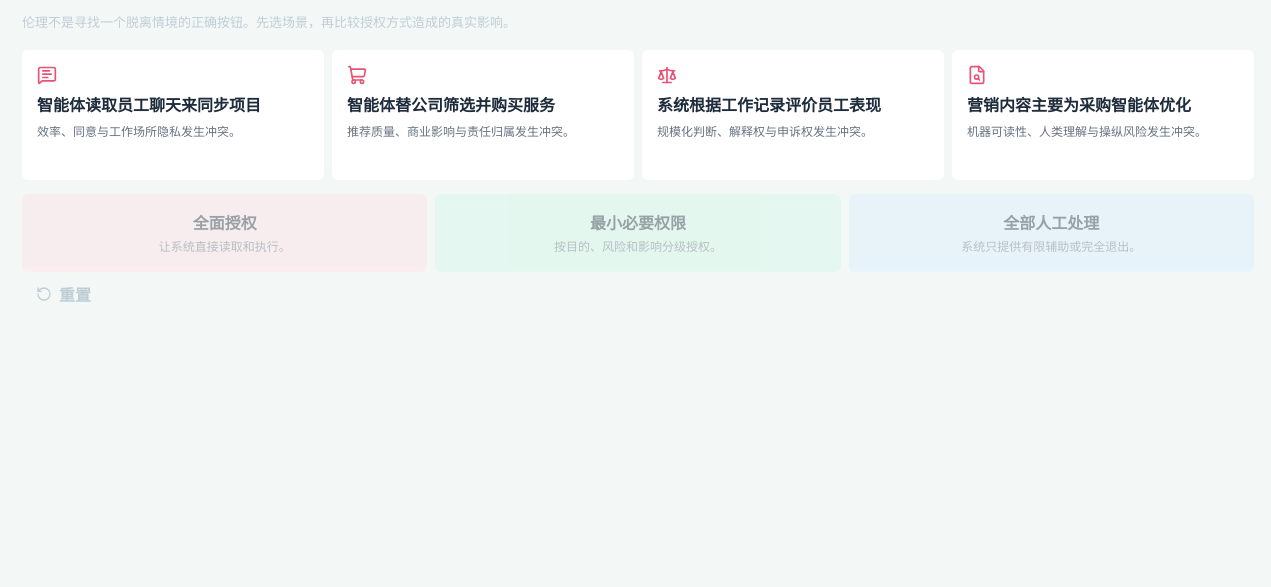
Scenario: EthicsLab › shows stakeholders, privacy safeguards, and residual uncertainty
The width and height of the screenshot is (1271, 587).
Click the button with aria-label "选择员工聊天记录场景" at (173, 115), box top-left (22, 50), bottom-right (324, 180)
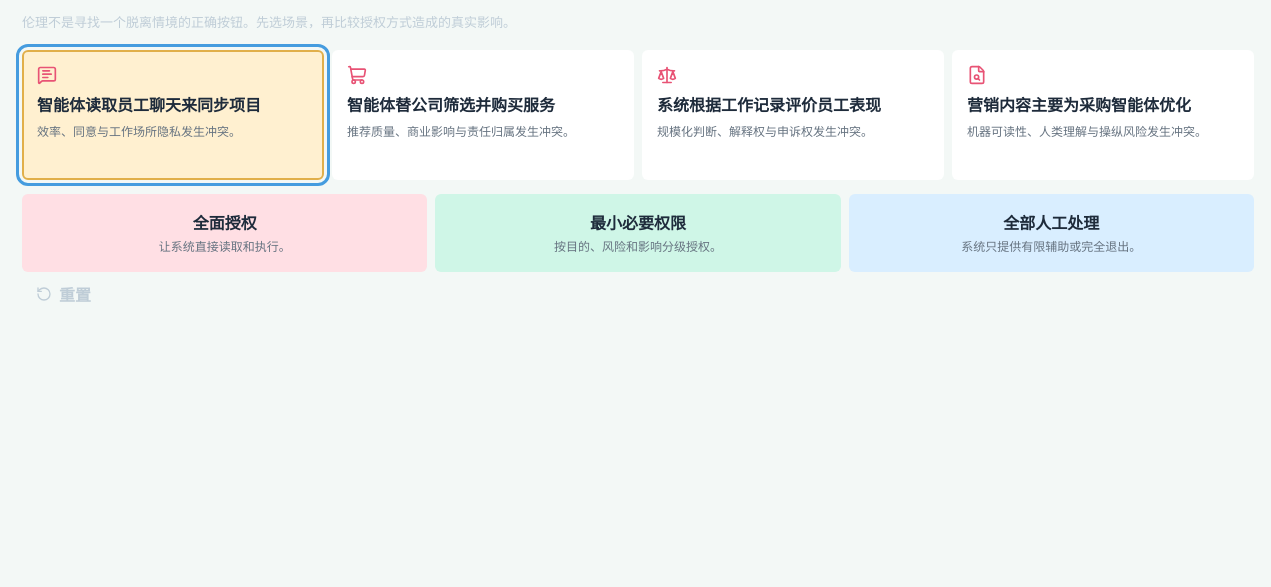
Click the button with aria-label "采用最小必要权限方案" at (638, 233), box top-left (435, 194), bottom-right (841, 272)
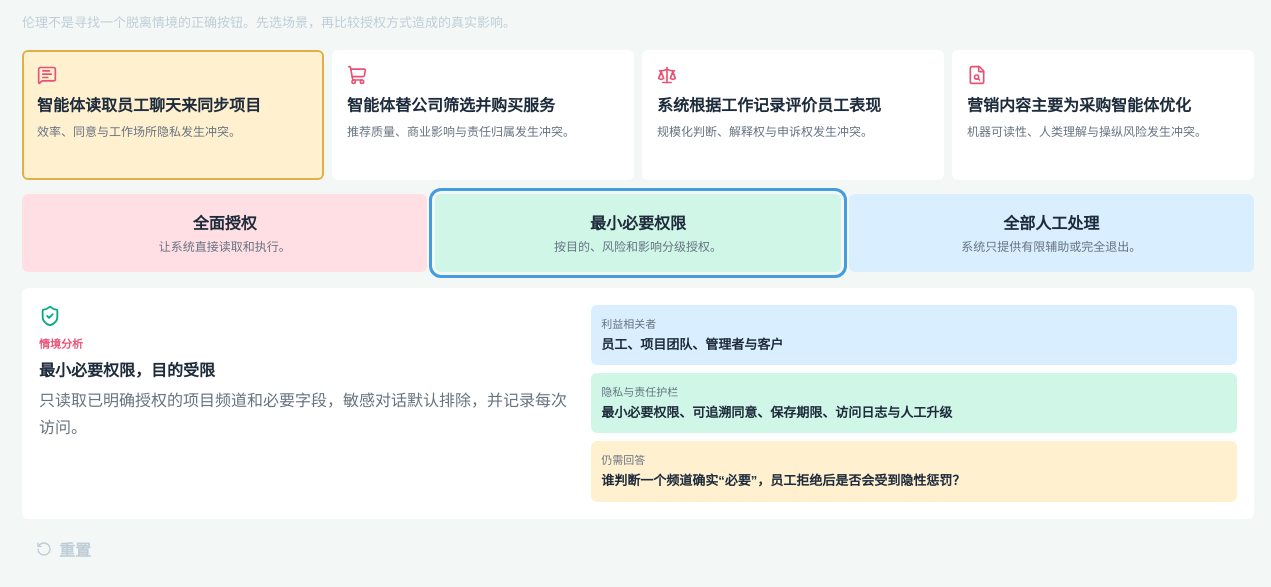
Expected: the heading "最小必要权限，目的受限" is shown, top-left (39, 362), bottom-right (215, 379)
Expected: the text "隐私与责任护栏" is shown, top-left (601, 386), bottom-right (678, 398)
Expected: the text "仍需回答" is shown, top-left (601, 454), bottom-right (645, 466)
